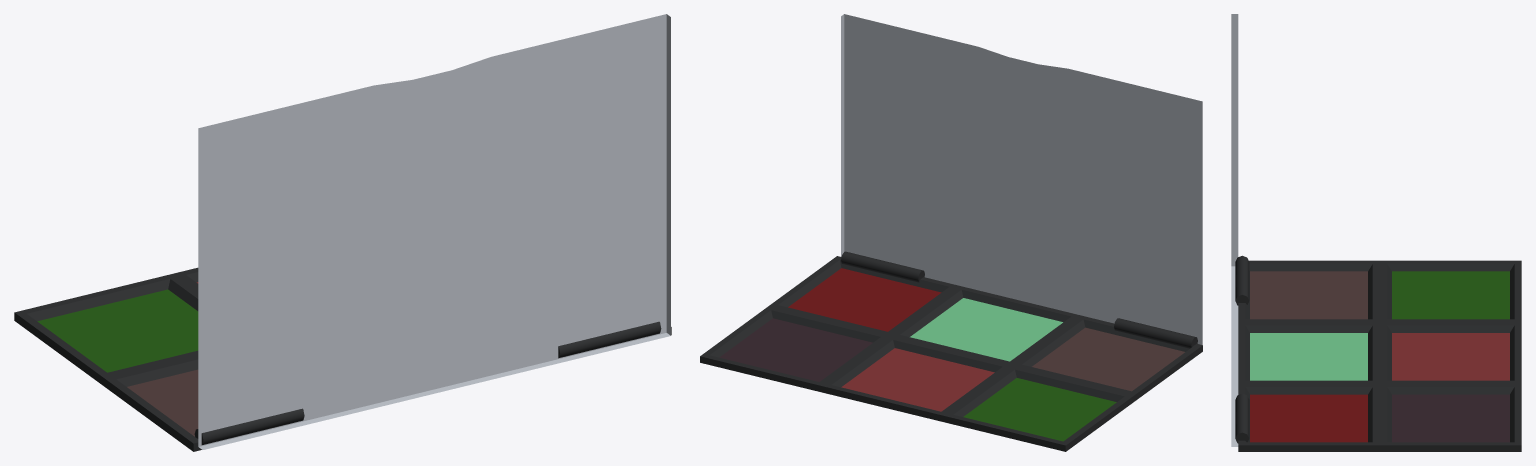
Rendered from Make Up Pallete Open.glb.
3 renders of one model, left to right at view 1: azimuth 30°, elevation 25°; view 2: azimuth 150°, elevation 25°; view 3: azimuth 270°, elevation 25°, orthographic. The views are drawn at different scales.
Visible parts, largest first — view 1: make up_pallete_open.004; view 2: make up_pallete_open.004; view 3: make up_pallete_open.004.
Part boxes in pixels (left/top/right/bottom): make up_pallete_open.004: left=14, top=14, right=671, bottom=451; make up_pallete_open.004: left=700, top=14, right=1202, bottom=451; make up_pallete_open.004: left=1231, top=14, right=1521, bottom=451.
Size of the model in its own units: 24.41 by 15.74 by 16.24.
2 materials, 2 textured.
